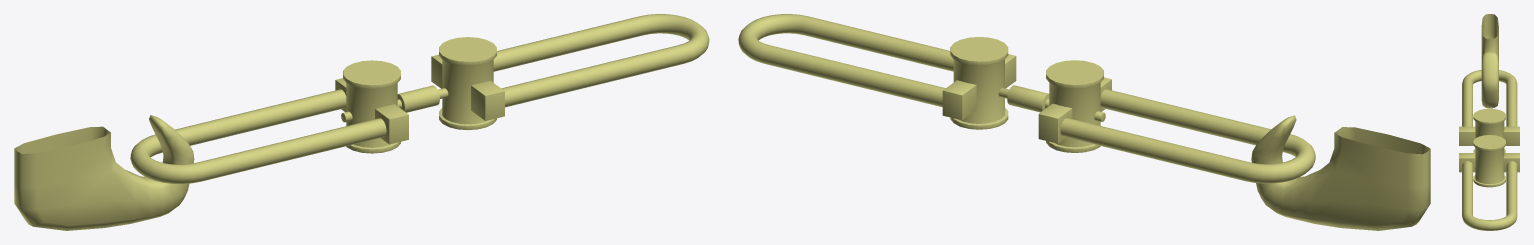
3 views of the same model, side by side, from view 1: azimuth 30°, elevation 25°; view 2: azimuth 150°, elevation 25°; view 3: azimuth 270°, elevation 25° (orthographic). The views are drawn at different scales.
Parts seen in each view (by area): view 1: Box810, Line202, Line204, Cylinder599, Cylinder591, Box818, Cylinder592, Box816, Box817; view 2: Box810, Line202, Line204, Cylinder599, Cylinder591, Box817, Cylinder592, Box811, Box818; view 3: Line204, Box810, Cylinder599, Line202, Cylinder591, Box816, Box811, Box817, Box818.
Boxes of the visible parts, bbox=[...] form: Box810: bbox=[14, 115, 194, 230]; Line202: bbox=[130, 89, 386, 183]; Line204: bbox=[493, 14, 709, 107]; Cylinder599: bbox=[439, 37, 496, 129]; Cylinder591: bbox=[343, 60, 400, 153]; Box818: bbox=[471, 80, 504, 120]; Cylinder592: bbox=[341, 85, 448, 122]; Box816: bbox=[375, 104, 408, 144]; Box817: bbox=[431, 54, 442, 88]; Box810: bbox=[1251, 115, 1430, 230]; Line202: bbox=[1060, 89, 1315, 183]; Line204: bbox=[738, 14, 953, 107]; Cylinder599: bbox=[950, 37, 1008, 129]; Cylinder591: bbox=[1046, 60, 1103, 152]; Box817: bbox=[942, 80, 976, 120]; Cylinder592: bbox=[998, 85, 1105, 121]; Box811: bbox=[1038, 103, 1072, 143]; Box818: bbox=[1005, 54, 1016, 88]; Line204: bbox=[1462, 161, 1517, 230]; Box810: bbox=[1481, 14, 1498, 108]; Cylinder599: bbox=[1473, 135, 1505, 187]; Line202: bbox=[1462, 70, 1517, 126]; Cylinder591: bbox=[1473, 108, 1505, 152]; Box816: bbox=[1459, 126, 1475, 145]; Box811: bbox=[1503, 126, 1519, 145]; Box817: bbox=[1503, 153, 1519, 172]; Box818: bbox=[1459, 153, 1475, 172].
Size of the model in its own units: 20.7 by 2.82 by 2.83.
